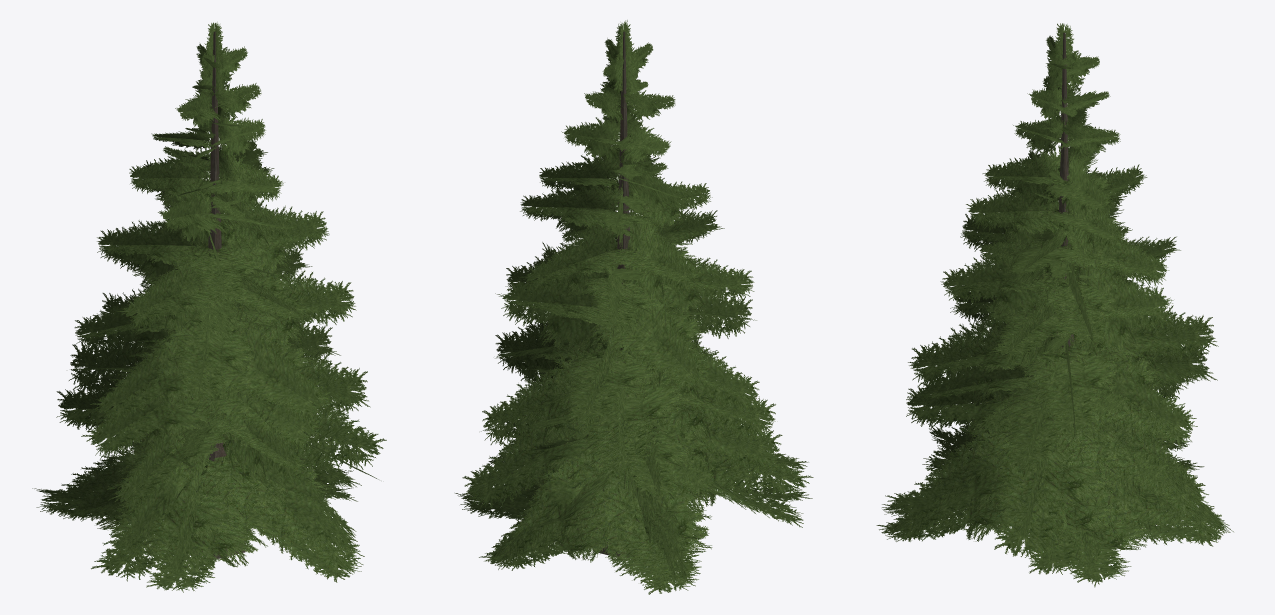
The model's file is tree-pine-dense.glb.
The picture shows the model from 3 angles, left to right: view 1: azimuth 30°, elevation 25°; view 2: azimuth 150°, elevation 25°; view 3: azimuth 270°, elevation 25°; orthographic projection.
Visible parts, largest first — view 1: tree-pine-dense_LOD1; view 2: tree-pine-dense_LOD1; view 3: tree-pine-dense_LOD1.
Boxes of the visible parts, x1=… form: tree-pine-dense_LOD1: x1=32, y1=22, x2=386, y2=592; tree-pine-dense_LOD1: x1=455, y1=20, x2=813, y2=594; tree-pine-dense_LOD1: x1=876, y1=23, x2=1233, y2=587.
Bounding box in the file's own units: 4.05 × 5.65 × 3.97.
Materials: 2 (2 with a texture image).
